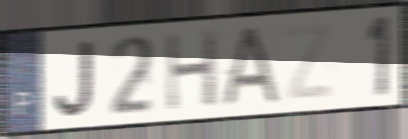1: (364, 12, 391, 100)
2: (109, 33, 157, 118)
A: (217, 24, 284, 109)
H: (163, 28, 220, 114)
J: (52, 38, 96, 120)
Z: (281, 20, 337, 105)
